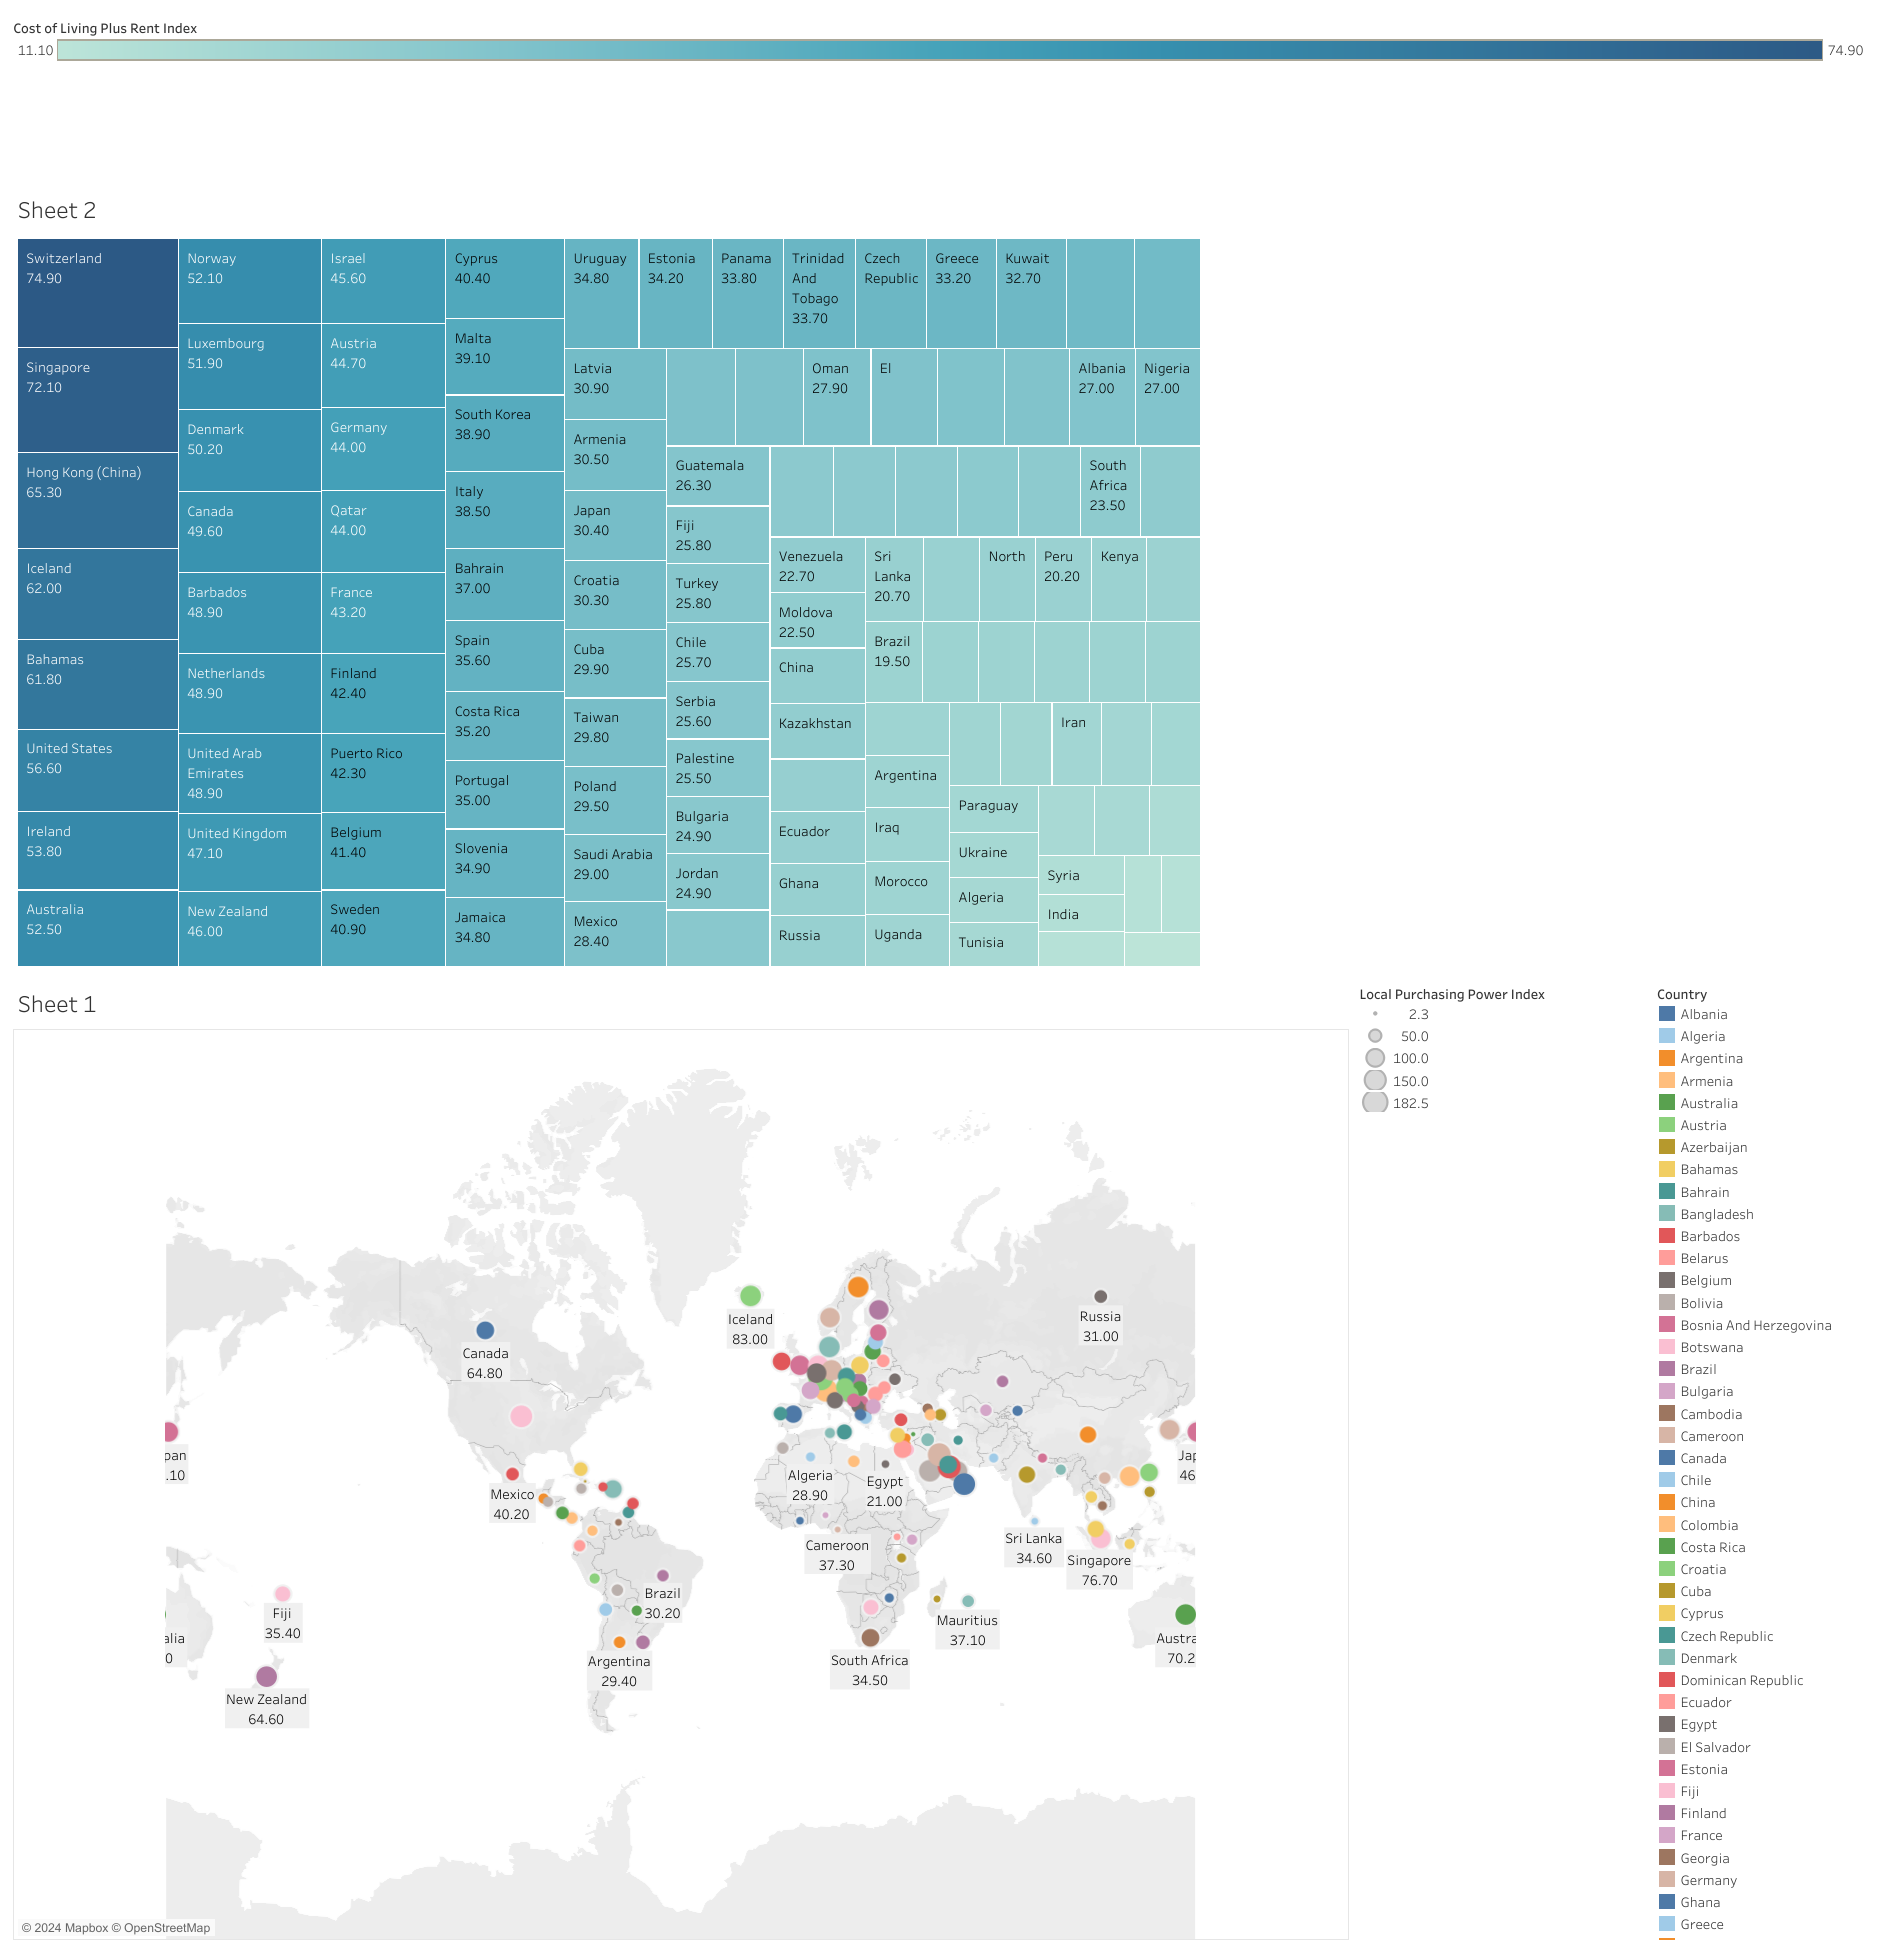

The dashboard page shown, as its layout file describes it:
{"tool":"tableau","page":{"name":"Dashboard 1","canvas":[1000,1000],"units":"permille","ordinal":0},"visuals":[{"type":"legend","title":"Sheet 2","param":"[federated.1ud0umo0l8cck71fgsq2n1hfmomf].[sum:Cost of Living Plus Rent Index:qk]","box":[4.7,4.5,990.5,88.5]},{"type":"worksheet","title":"Sheet 2","mark":"Automatic","box":[4.7,93.1,990.5,406.9]},{"type":"worksheet","title":"Sheet 1","mark":"Automatic","box":[4.7,500,754.7,495.5]},{"type":"legend","title":"Sheet 1","param":"[federated.1ud0umo0l8cck71fgsq2n1hfmomf].[sum:Local Purchasing Power Index:qk]","box":[759.4,500,117.9,495.5]},{"type":"legend","title":"Sheet 1","param":"[federated.1ud0umo0l8cck71fgsq2n1hfmomf].[none:Country:nk]","box":[877.3,500,118,495.5]}]}

Visuals, with their boxes on the dashboard's canvas, which has no fixed pixel size, in thousandths of its width and height (x1, y1, x2, y2). These are canvas units, not pixel positions in the 1881x1952 screenshot, which may show the page scaled, cropped or inside an application window:
"Sheet 2" legend: rect(5, 4, 995, 93)
"Sheet 2" worksheet: rect(5, 93, 995, 500)
"Sheet 1" worksheet: rect(5, 500, 759, 996)
"Sheet 1" legend: rect(759, 500, 877, 996)
"Sheet 1" legend: rect(877, 500, 995, 996)
